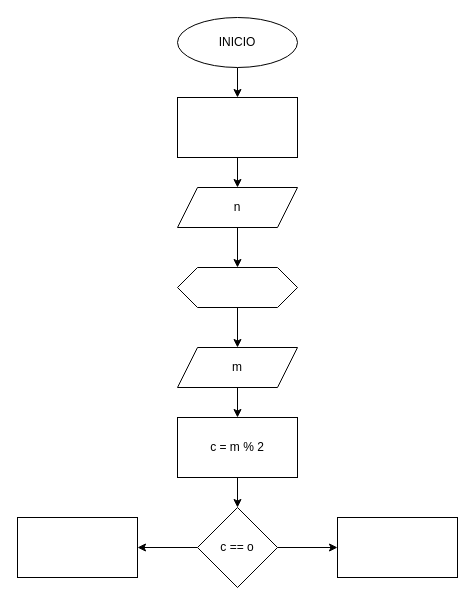
Some shapes in this 475 by 605 pixel diagram are drawn without their labels. Here are the shapes that lost their labels. From the top down, the centre of each, then its label:
At pixel 237 127: "pares = 0 impares = 0".
At pixel 237 287: "i = n".
